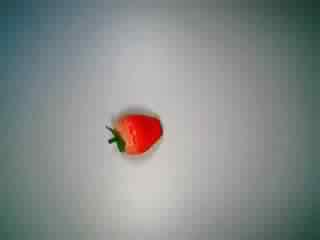strawberry: (97, 105, 168, 165)
